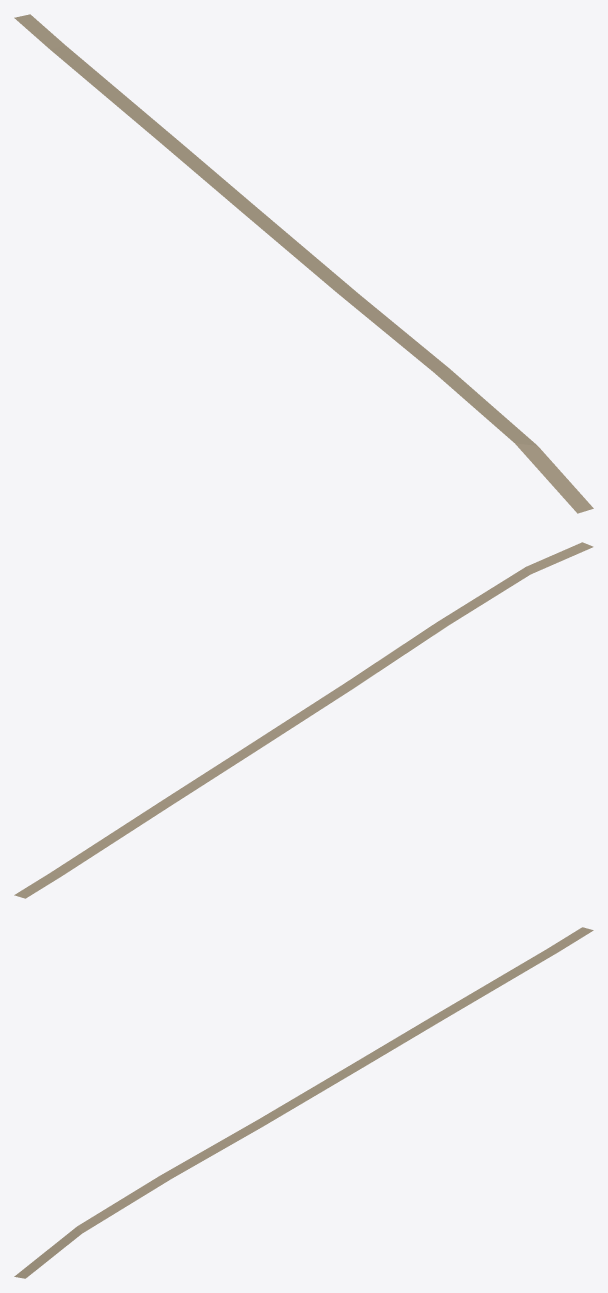
File: farm_18_30_track.glb
3 views of the same model, one above another, from view 1: azimuth 30°, elevation 25°; view 2: azimuth 150°, elevation 25°; view 3: azimuth 330°, elevation 25° (orthographic). The views are drawn at different scales.
Parts seen in each view (by area): view 1: geometry_0; view 2: geometry_0; view 3: geometry_0.
Boxes of the visible parts, x1,y1,x2,y2 form: geometry_0: [14, 14, 593, 513]; geometry_0: [14, 542, 593, 898]; geometry_0: [14, 927, 593, 1278].
Size of the model in its own units: 21.37 by 3.27 by 235.
